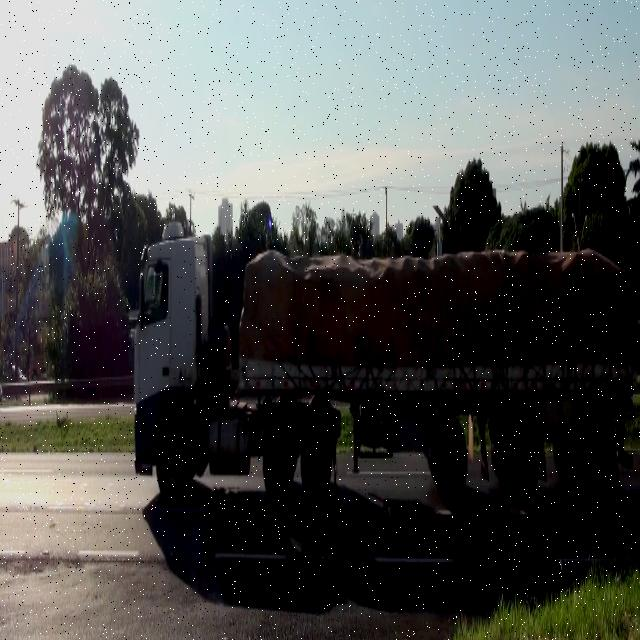-axle: (569, 413, 606, 510), (154, 413, 191, 510), (435, 414, 468, 502), (263, 414, 296, 502), (506, 414, 537, 498), (301, 412, 330, 497)
